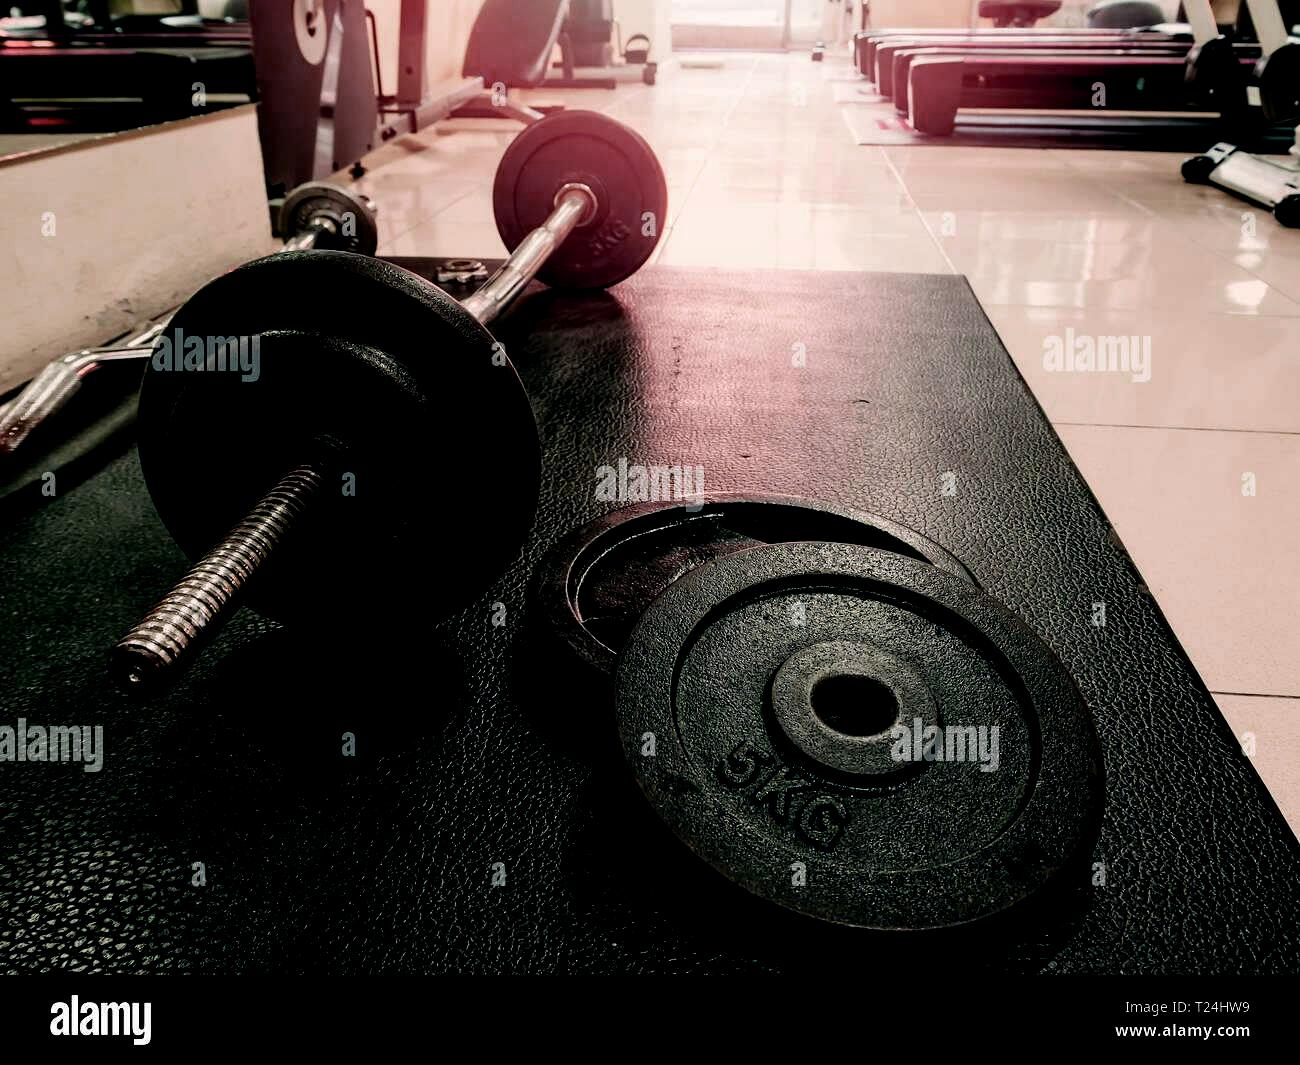Barbell: (78, 617, 197, 716)
